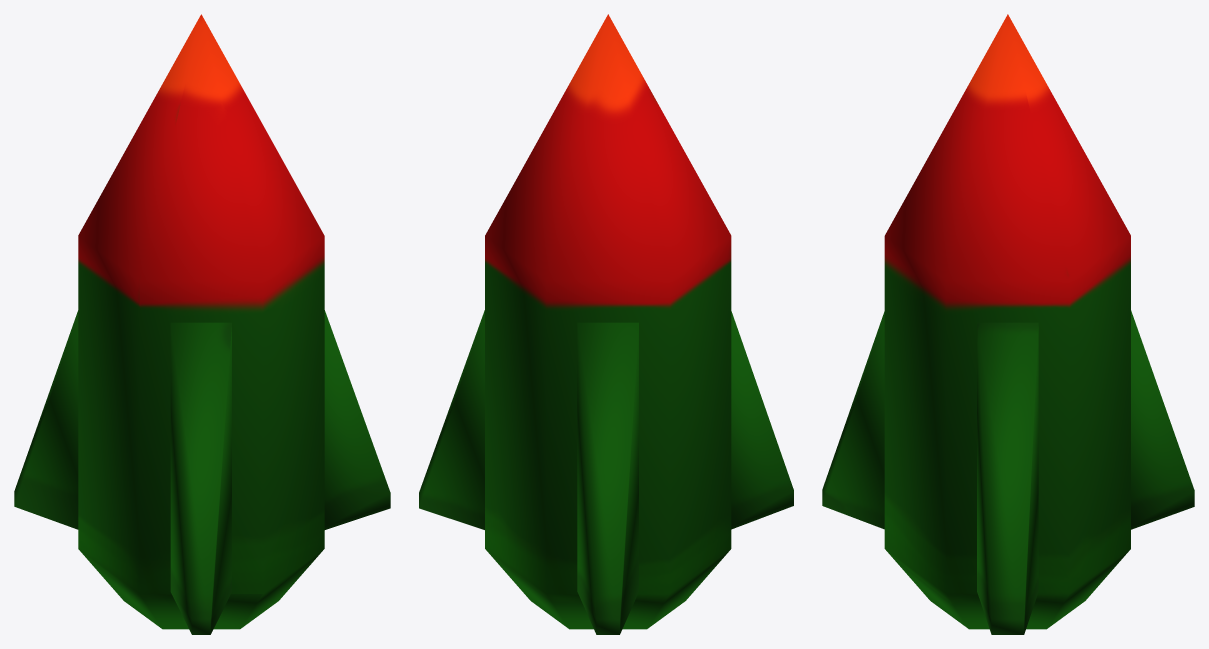
The model's file is rocket.fbx.
3 views of the same model, side by side, from view 1: azimuth 30°, elevation 25°; view 2: azimuth 150°, elevation 25°; view 3: azimuth 270°, elevation 25° (orthographic).
Visible parts, largest first — view 1: Circle, Circle.001; view 2: Circle, Circle.001; view 3: Circle, Circle.001.
Part boxes in pixels (<box>): Circle: <box>78,14,324,629</box>; Circle.001: <box>14,310,390,634</box>; Circle: <box>485,14,731,629</box>; Circle.001: <box>419,310,793,634</box>; Circle: <box>884,14,1130,629</box>; Circle.001: <box>822,310,1194,634</box>.
Size of the model in its own units: 263 by 526 by 303.
1 material, 1 textured.
